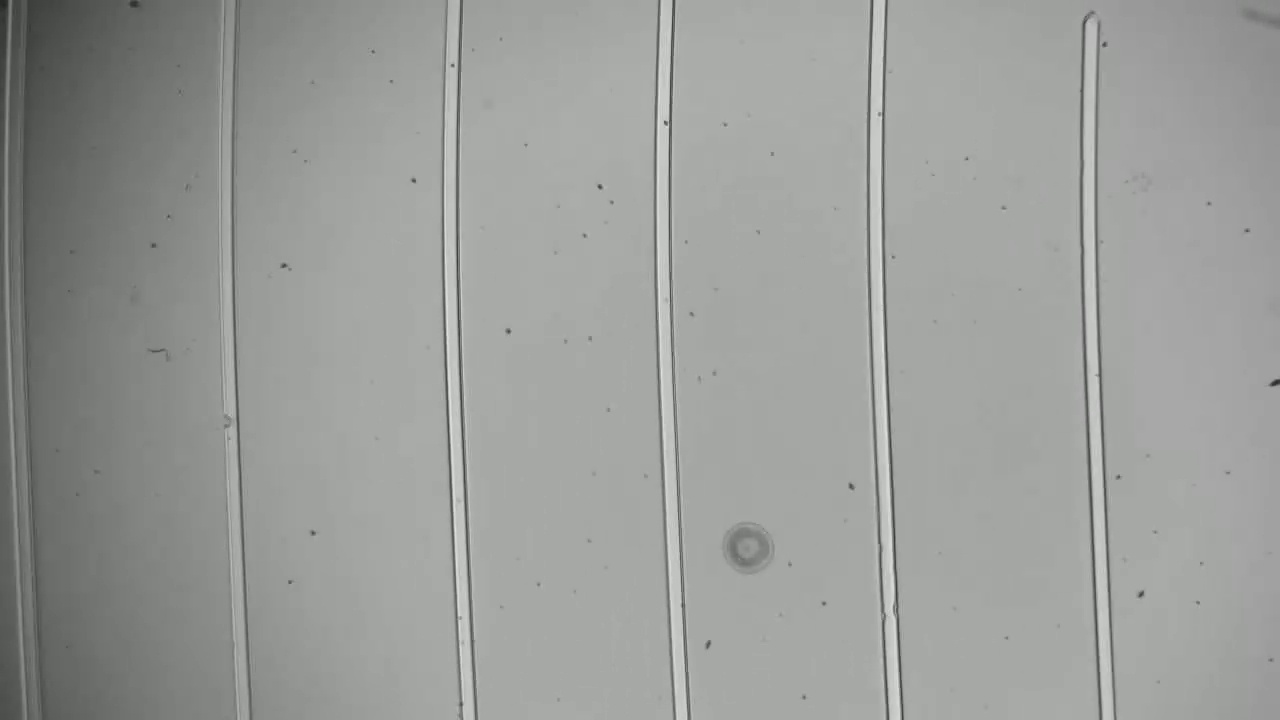edge_bite: (869, 590, 907, 631), (216, 406, 247, 438)
